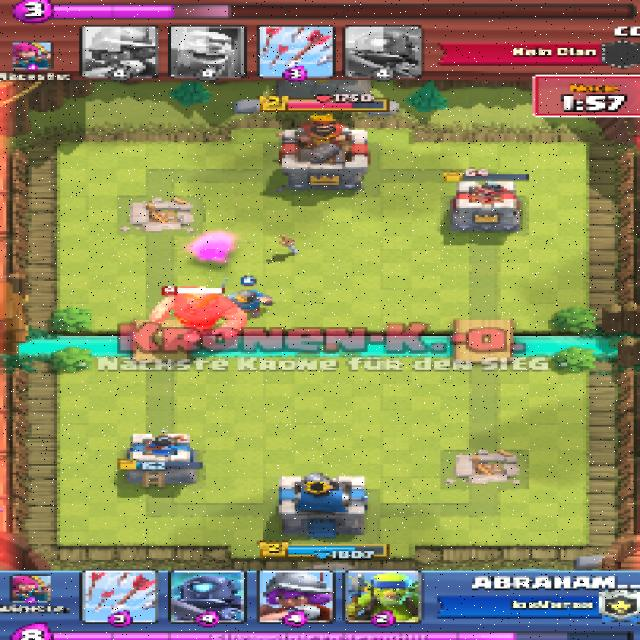Enemy-Giant: (146, 287, 248, 340)
Player-Knight: (221, 287, 272, 318)
